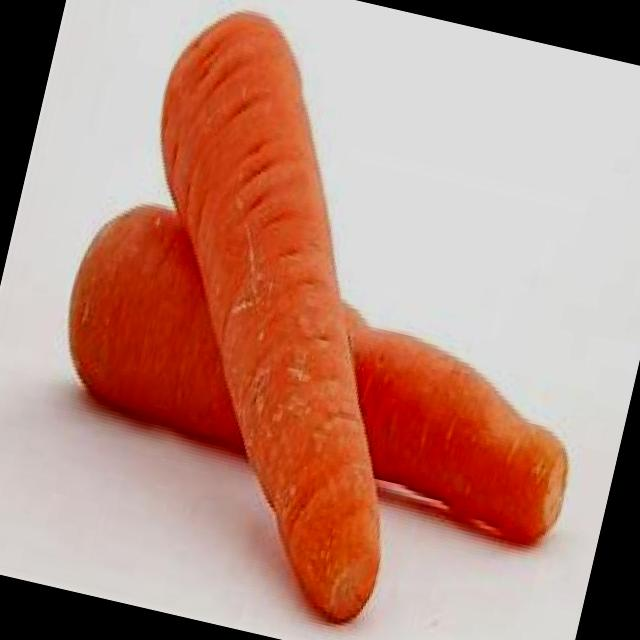carrot: (158, 10, 381, 627)
